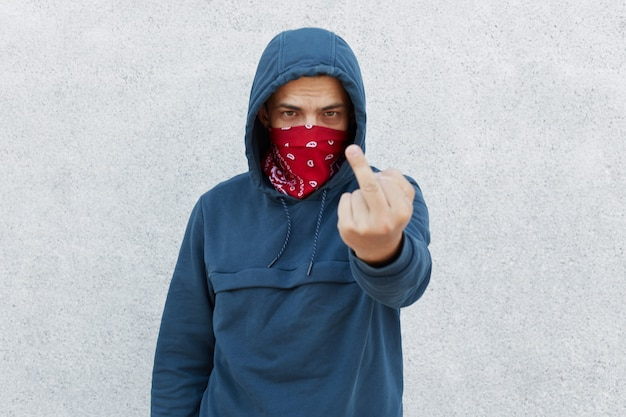insulting_gesture: (333, 143, 417, 261)
